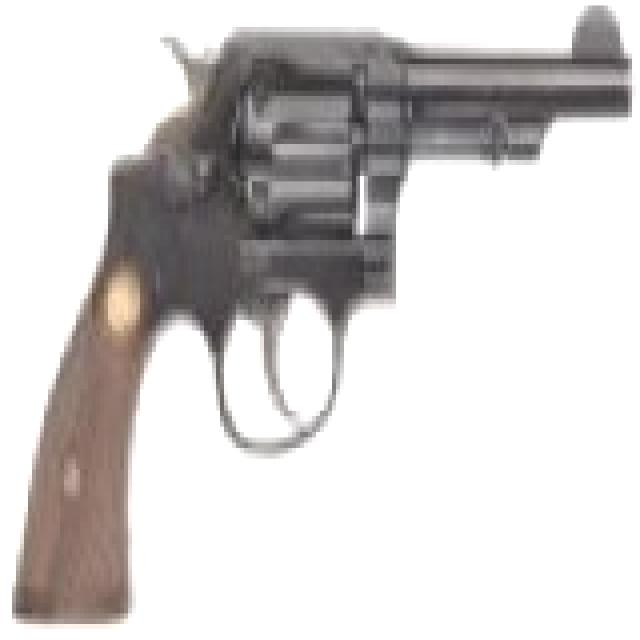pistol: (24, 0, 620, 629)
